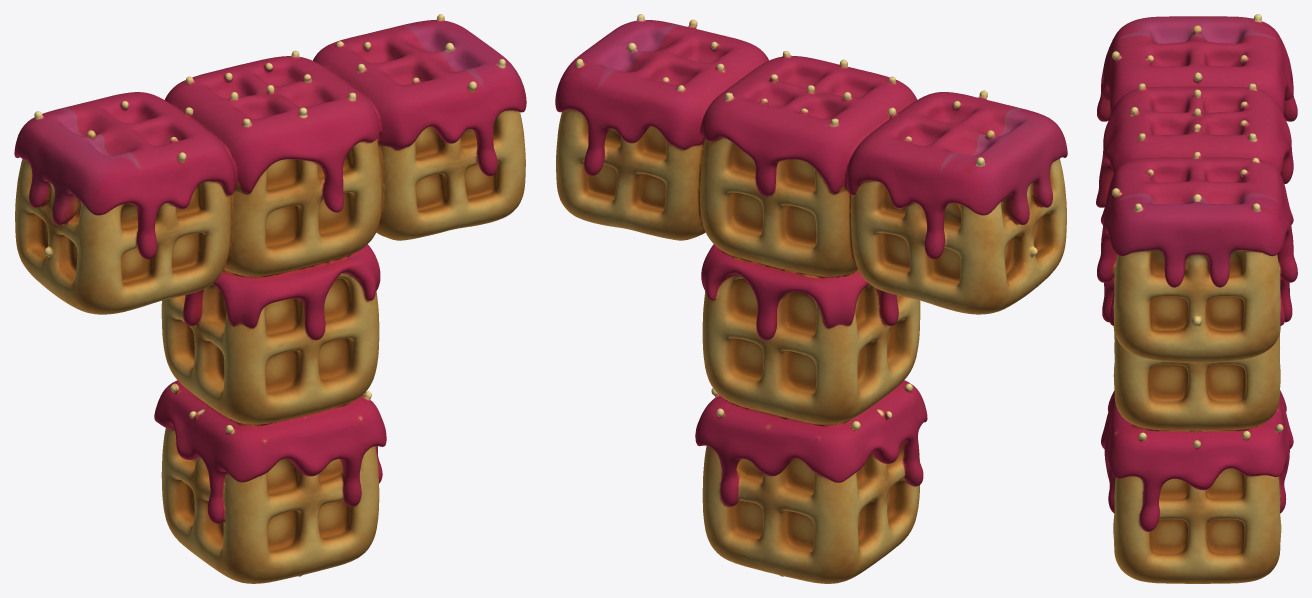
File: waffle-tower.glb
3 views of the same model, side by side, from view 1: azimuth 30°, elevation 25°; view 2: azimuth 150°, elevation 25°; view 3: azimuth 270°, elevation 25° (orthographic). The views are drawn at different scales.
Size of the model in its own units: 1.9 by 1.88 by 0.7546.
1 material, 1 textured.
